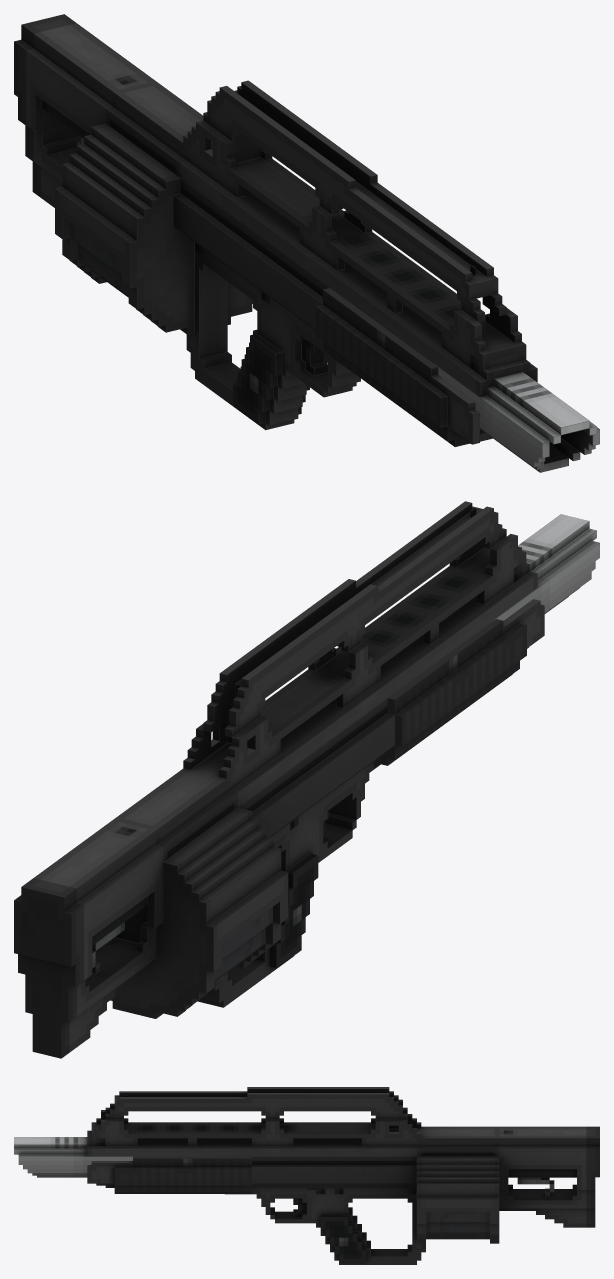
Rendered from RD_JACKHAMMER.glb.
3 views of the same model, one above another, from view 1: azimuth 30°, elevation 25°; view 2: azimuth 150°, elevation 25°; view 3: azimuth 270°, elevation 25° (orthographic). The views are drawn at different scales.
Visible parts, largest first — view 1: JACKHAMMER_BODY, JACKHAMMER_FOREND, JACKHAMMER_CLIP; view 2: JACKHAMMER_BODY, JACKHAMMER_FOREND, JACKHAMMER_CLIP; view 3: JACKHAMMER_BODY, JACKHAMMER_FOREND, JACKHAMMER_CLIP.
Part boxes in pixels (x1=…): JACKHAMMER_BODY: x1=14, y1=14, x2=599, y2=472; JACKHAMMER_FOREND: x1=315, y1=288, x2=492, y2=446; JACKHAMMER_CLIP: x1=70, y1=223, x2=128, y2=297; JACKHAMMER_BODY: x1=14, y1=501, x2=599, y2=1058; JACKHAMMER_FOREND: x1=373, y1=599, x2=544, y2=769; JACKHAMMER_CLIP: x1=214, y1=907, x2=272, y2=981; JACKHAMMER_BODY: x1=14, y1=1087, x2=599, y2=1264; JACKHAMMER_FOREND: x1=87, y1=1156, x2=251, y2=1194; JACKHAMMER_CLIP: x1=426, y1=1211, x2=489, y2=1239.
Bounding box in the file's own units: 0.2165 × 0.4036 × 1.26.
1 material, 1 textured.
